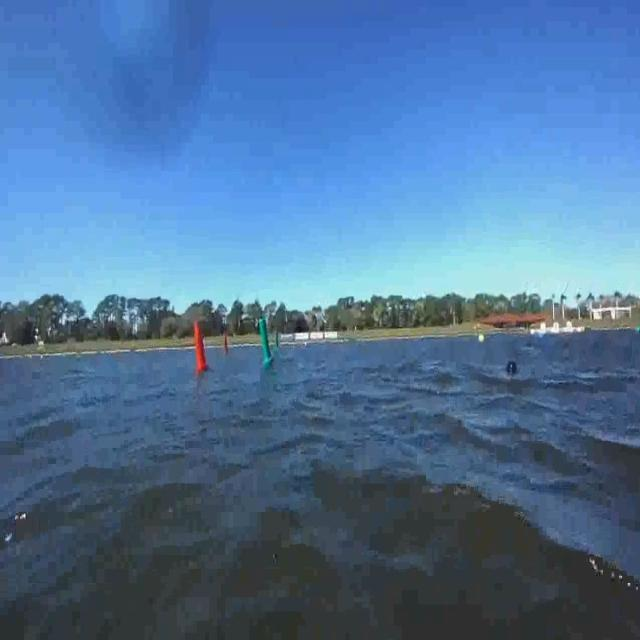black-buoy: (507, 356, 521, 376)
green-column-buoy: (260, 318, 275, 366), (276, 332, 280, 350)
red-column-buoy: (193, 318, 210, 371), (222, 333, 229, 353)
yellow-buoy: (479, 333, 487, 346)
